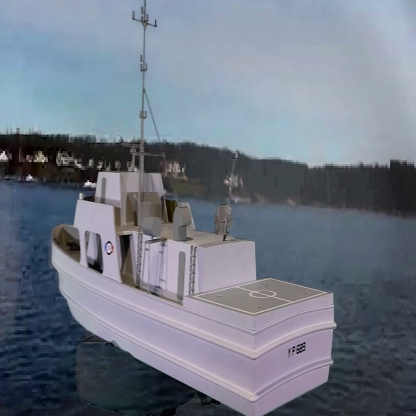YP689: (50, 0, 335, 416)
